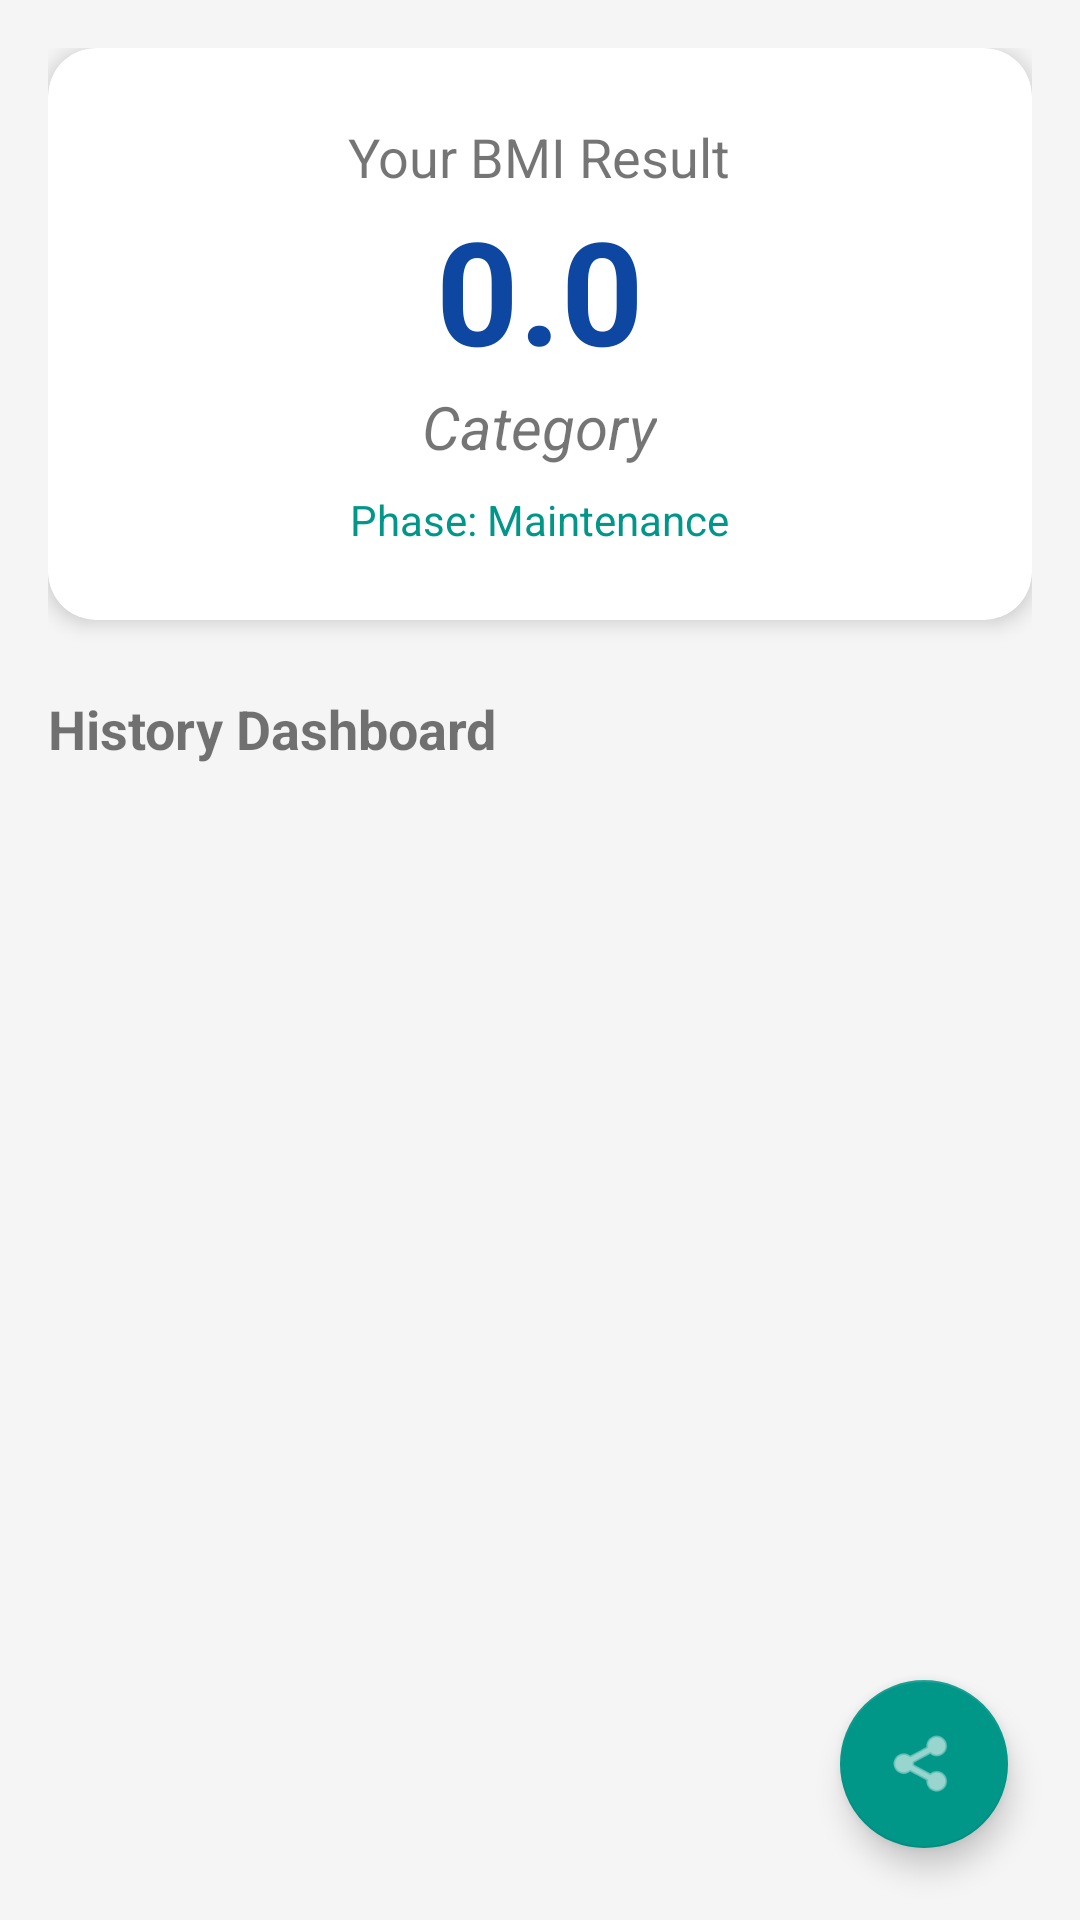

Screen size 1080px x 1920px. Icon name, then its box in pixels as (x1, y1, x2, y2):
Share Progress: (840, 1680, 1008, 1848)
